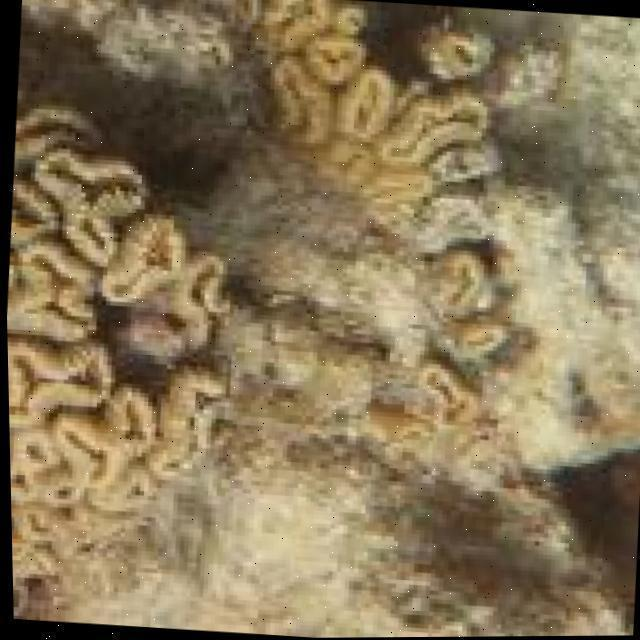Healthy Coral: (15, 108, 245, 559), (250, 0, 543, 229), (414, 236, 529, 451)
